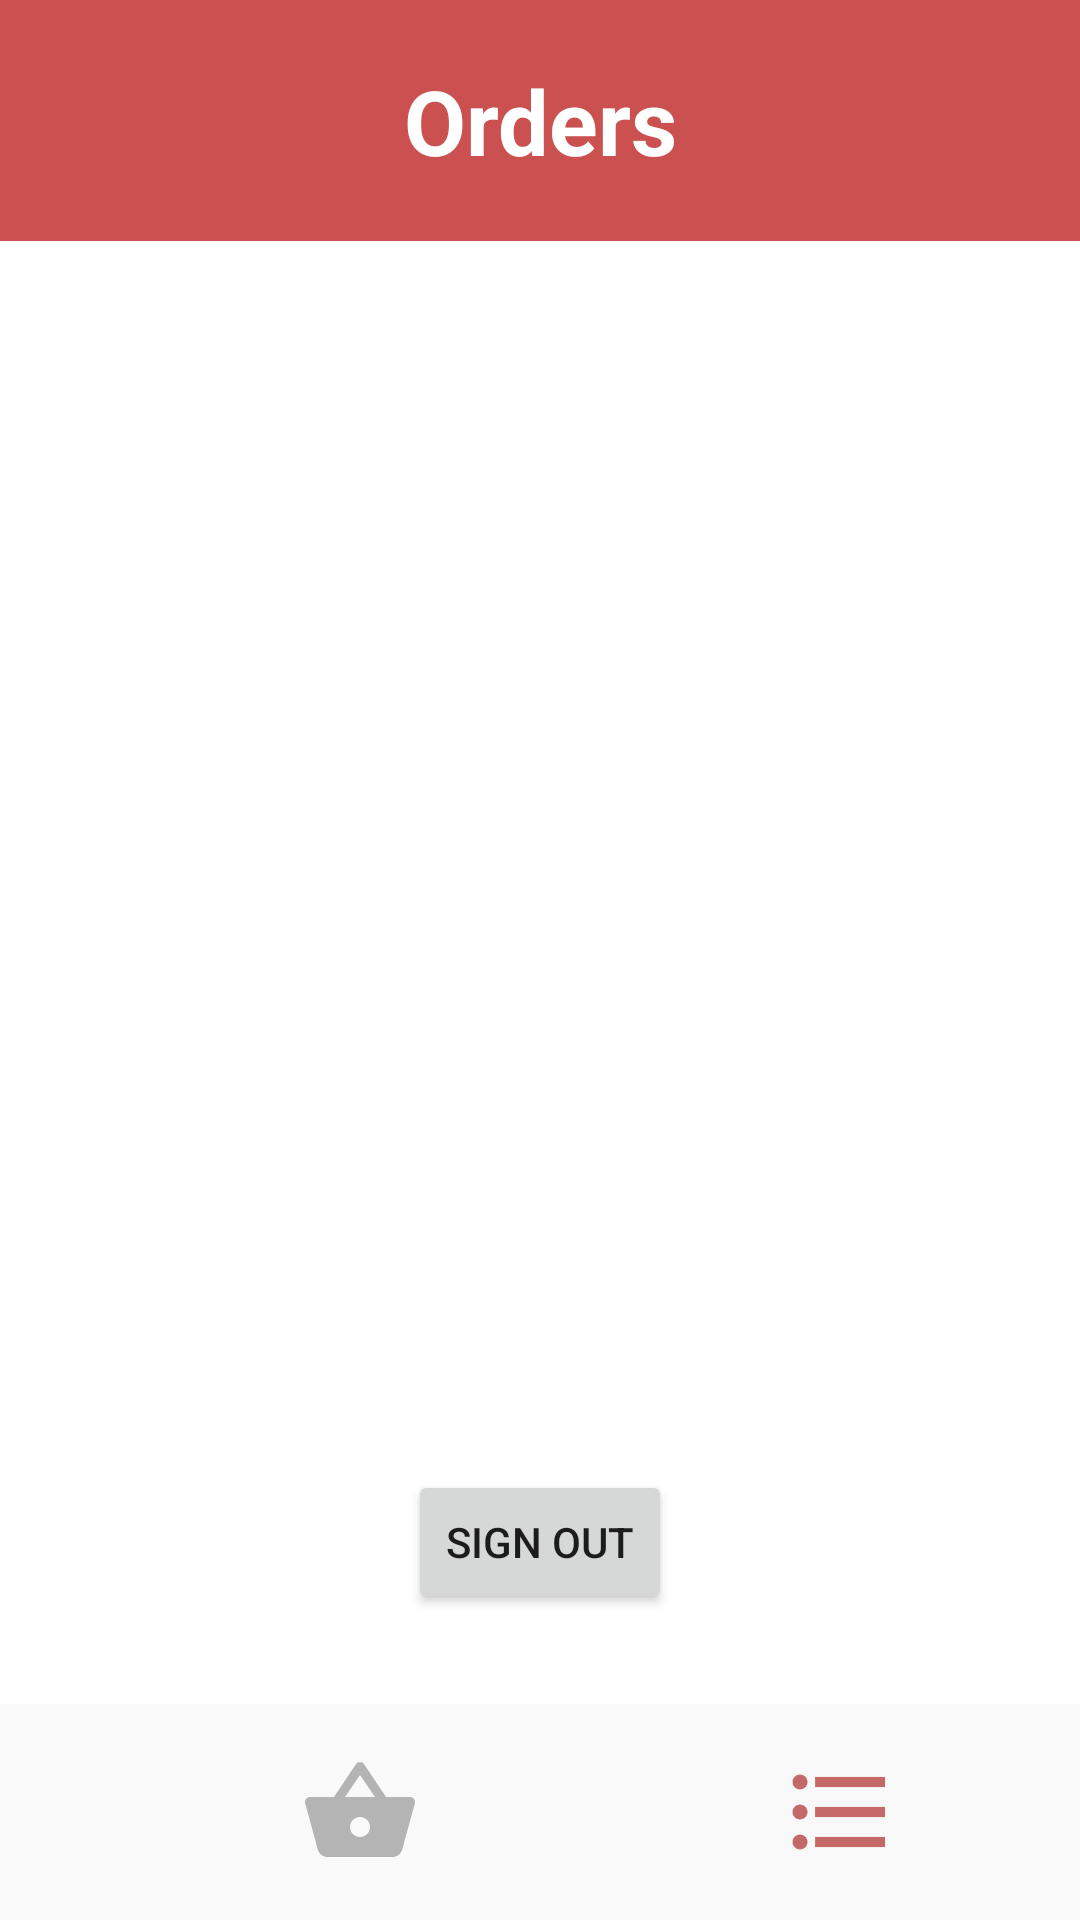

Named icons in this screenshot (1080x1920) and their centers, (x=x, y=y):
list: (x=838, y=1812)
shop: (x=360, y=1809)
